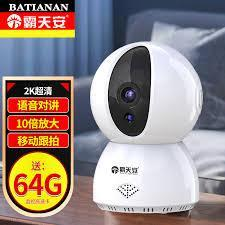maru: (90, 37, 204, 148)
